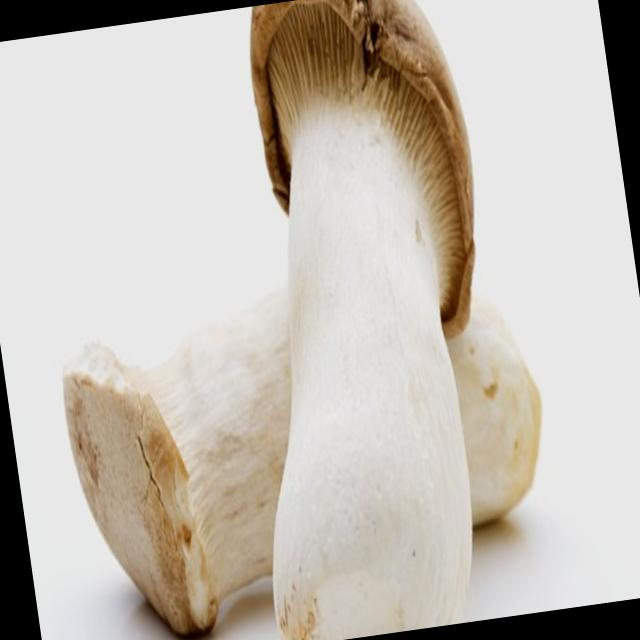Pleurotus eryngii: (195, 0, 536, 640), (54, 276, 566, 640)
